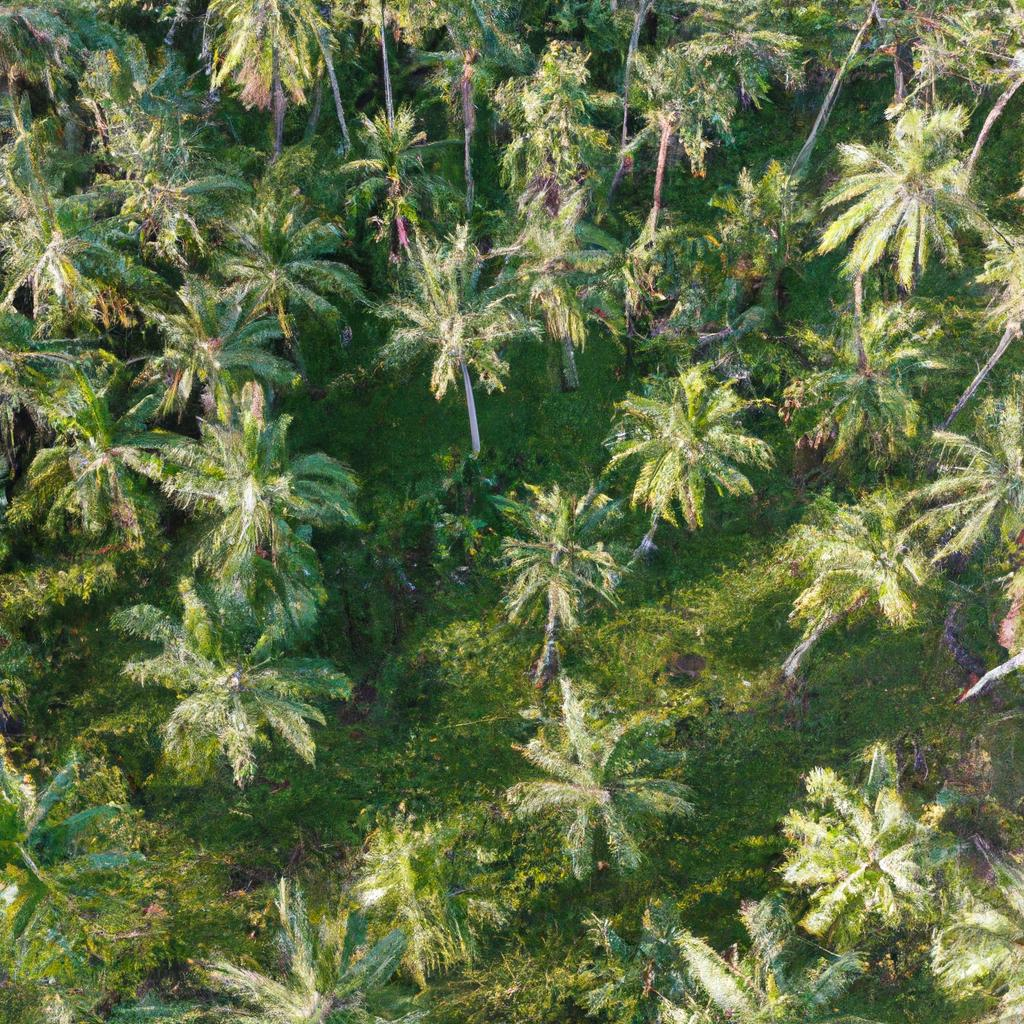coconut_tree: (104, 588, 348, 788), (153, 408, 364, 585), (832, 94, 1010, 301), (770, 740, 955, 939), (502, 685, 704, 866), (602, 351, 777, 539), (776, 307, 957, 447), (483, 475, 629, 647), (370, 243, 526, 388), (143, 291, 299, 399), (208, 204, 367, 297)
